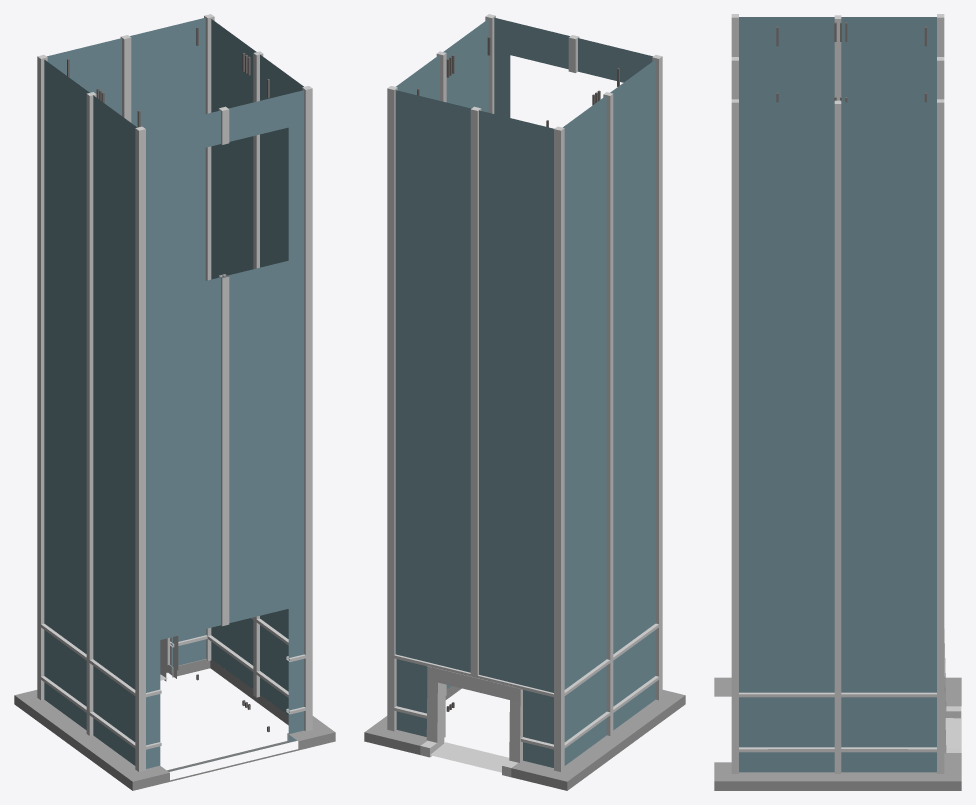
The model's file is lift-shaft-1-1.glb.
3 renders of one model, left to right at view 1: azimuth 30°, elevation 25°; view 2: azimuth 150°, elevation 25°; view 3: azimuth 270°, elevation 25°, orthographic. The views are drawn at different scales.
Parts seen in each view (by area): view 1: BackUpWithMirror.001_Cube.004 / Glass, BackUpWithMirror.001_Cube.004 / Metal, BackUpWithMirror.001_Cube.004 / Beton, BackUpWithMirror.001_Cube.004 / BlackMetal; view 2: BackUpWithMirror.001_Cube.004 / Glass, BackUpWithMirror.001_Cube.004 / Metal, BackUpWithMirror.001_Cube.004 / Beton; view 3: BackUpWithMirror.001_Cube.004 / Glass, BackUpWithMirror.001_Cube.004 / Metal, BackUpWithMirror.001_Cube.004 / Beton.
Part boxes in pixels (x1,y1,x2,y2): BackUpWithMirror.001_Cube.004 / Glass: [44, 17, 304, 771]; BackUpWithMirror.001_Cube.004 / Metal: [37, 14, 312, 771]; BackUpWithMirror.001_Cube.004 / Beton: [14, 659, 335, 790]; BackUpWithMirror.001_Cube.004 / BlackMetal: [67, 27, 269, 732]; BackUpWithMirror.001_Cube.004 / Glass: [395, 17, 655, 767]; BackUpWithMirror.001_Cube.004 / Metal: [387, 14, 662, 777]; BackUpWithMirror.001_Cube.004 / Beton: [364, 686, 685, 790]; BackUpWithMirror.001_Cube.004 / Glass: [739, 17, 936, 772]; BackUpWithMirror.001_Cube.004 / Metal: [731, 14, 961, 773]; BackUpWithMirror.001_Cube.004 / Beton: [714, 677, 961, 790].
Bounding box in the file's own units: 8.52 × 26.27 × 8.61.
